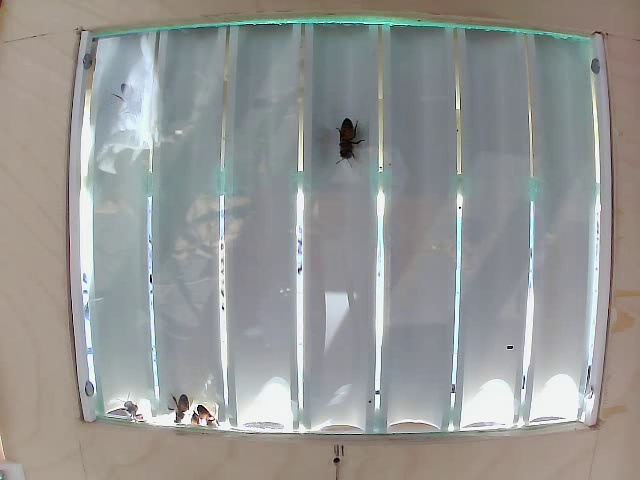bee: (325, 107, 372, 171)
